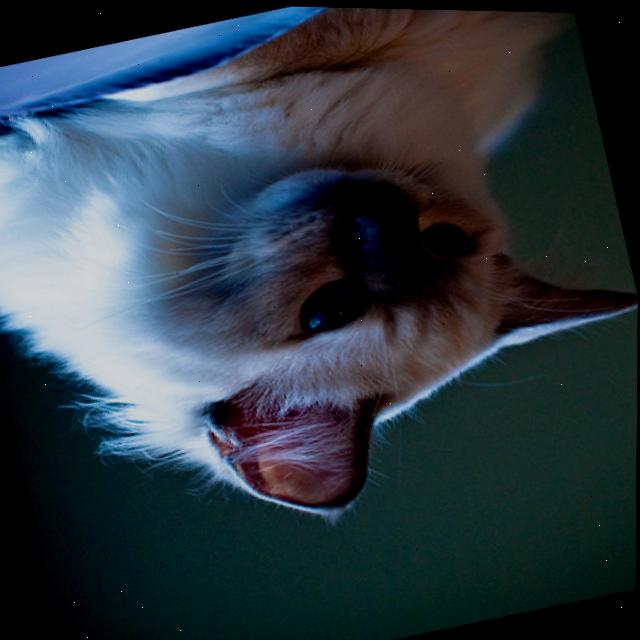Ragdoll: (0, 0, 640, 595)
